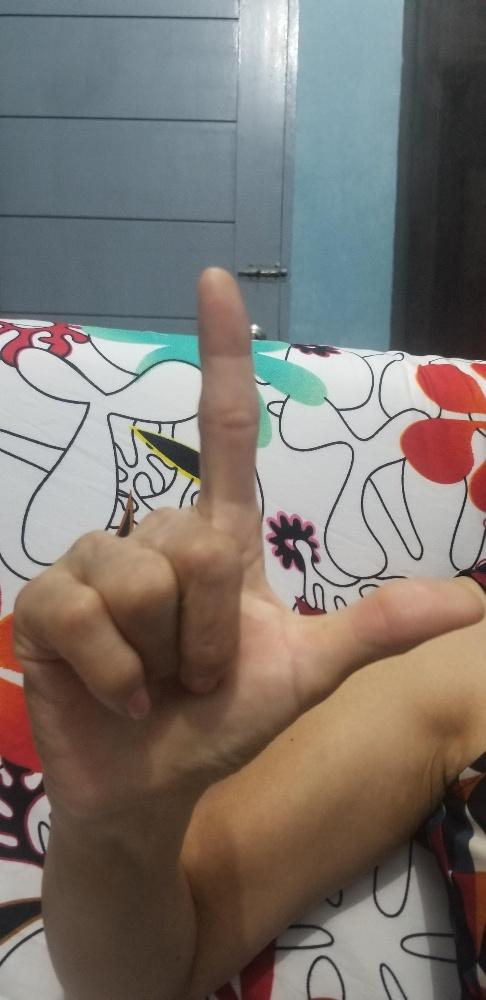l: (8, 261, 485, 820)
